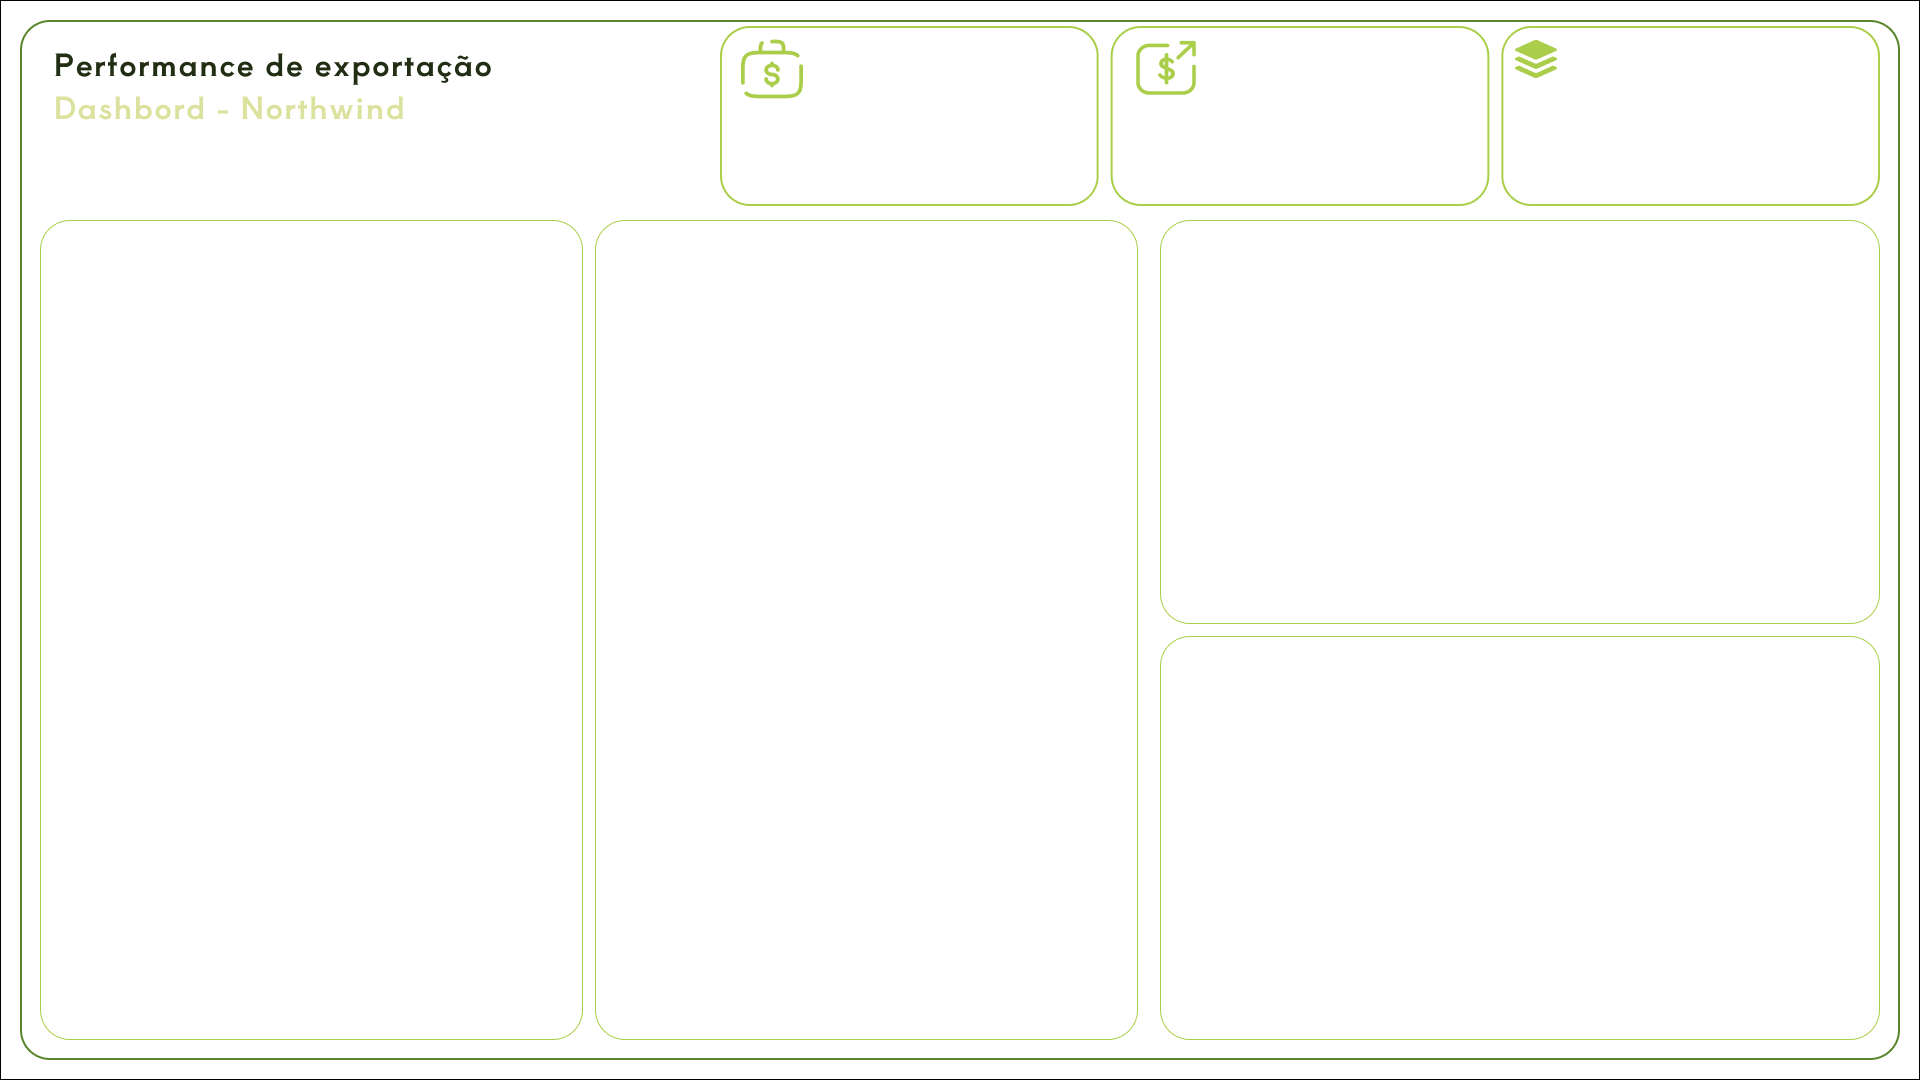

The page's visual inventory and layout, read from the dashboard file:
{"tool":"powerbi","page":{"name":"Dash_Principal","canvas":[1280,720],"ordinal":0},"visuals":[{"type":"areaChart","title":"Total Revenue Per Year and Quarter","fields":{"Category":["Orders.OrderDate.Variation.Hierarquia de datas.Ano","Orders.OrderDate.Variation.Hierarquia de datas.Trimestre"],"Y":["#Medidas.Receita_Total"]},"box":[783,160,465,242],"z":0},{"type":"card","title":"Total Revenue","fields":{"Values":["#Medidas.Receita_Total"]},"box":[521.3,34,198.4,81.7],"z":1000},{"type":"card","title":"Orders","fields":{"Values":["#Medidas.Contagem de Pedidos"]},"box":[1020.3,34,201.3,81.7],"z":2000},{"type":"card","title":" Average freight","fields":{"Values":["Customers.Margem_Lucro"]},"box":[758.7,34,231.5,81.7],"z":3000},{"type":"barChart","title":"Best-selling products","fields":{"Category":["Products.ProductName"],"Y":["CountNonNull(Order Details.OrderID)"]},"box":[406.5,151.9,345.1,530.3],"z":6000},{"type":"barChart","title":"Total Revenue per Customer","fields":{"Category":["Customers.CompanyName"],"Y":["#Medidas.Receita_total_Cliente"]},"box":[37,151.7,342.4,530.1],"z":7000},{"type":"map","title":"Shipping by country","fields":{"Category":["Orders.ShipCountry"]},"box":[783,430.9,464.9,258.7],"z":8000}]}

Visuals, with their boxes in screenshot pixels (x1, y1, x2, y2), scaled from the page's 1280x720 canvas onto the 1920x1080 screenshot:
"Total Revenue Per Year and Quarter" areaChart: box=[1174, 240, 1872, 603]
"Total Revenue" card: box=[782, 51, 1080, 174]
"Orders" card: box=[1530, 51, 1832, 174]
" Average freight" card: box=[1138, 51, 1485, 174]
"Best-selling products" barChart: box=[610, 228, 1127, 1023]
"Total Revenue per Customer" barChart: box=[56, 228, 569, 1023]
"Shipping by country" map: box=[1174, 646, 1872, 1034]
